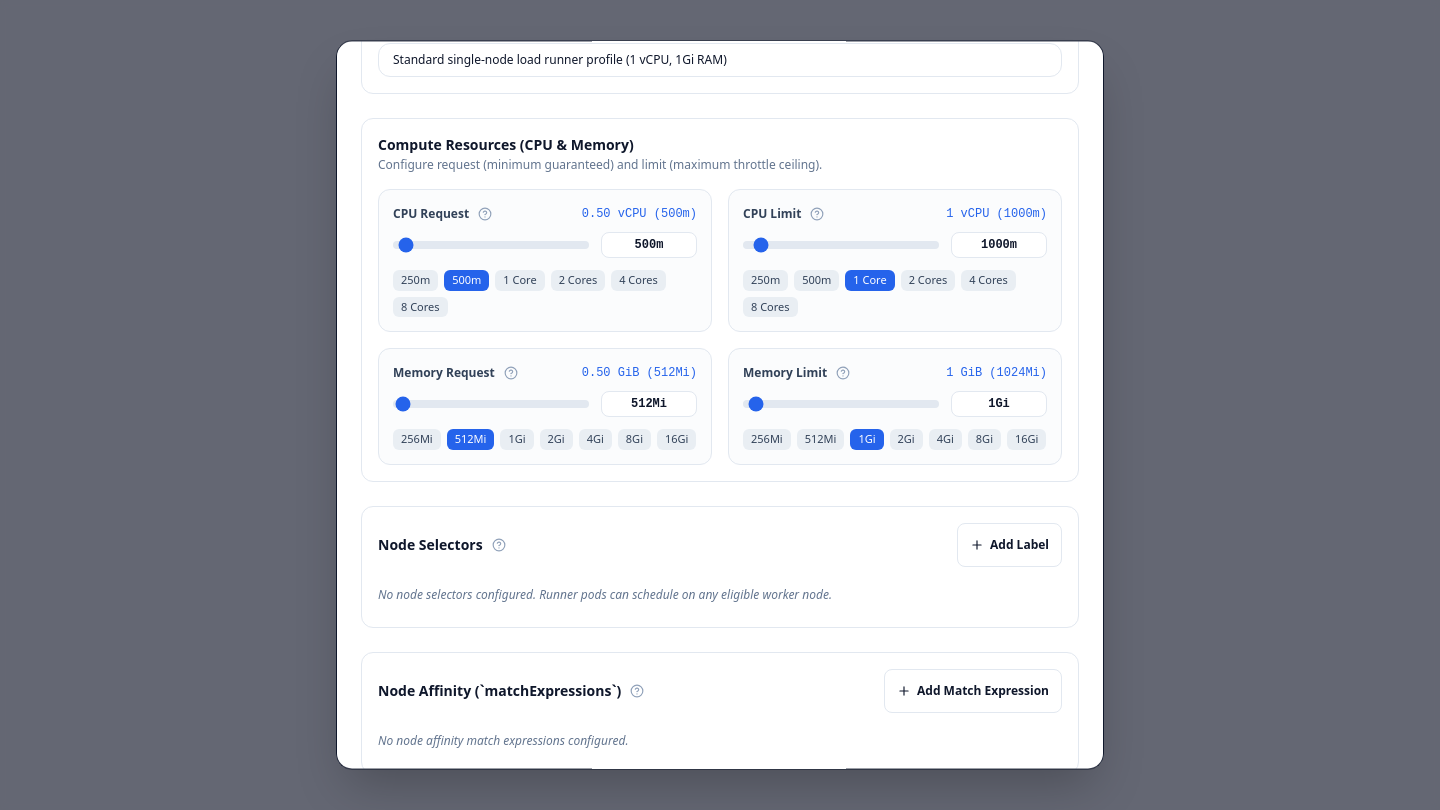
Test: Runner Profiles View & Builder › ProfileBuilderDialog › displays warning when Memory request exceeds Memory limit
The image size is (1440, 810).
(page scrolled)
# Set request to 4Gi and limit to 2Gi
Replace the text in the field labelled "Memory Request" with "4Gi" at {"x": 649, "y": 404}, box [601,392,697,418]
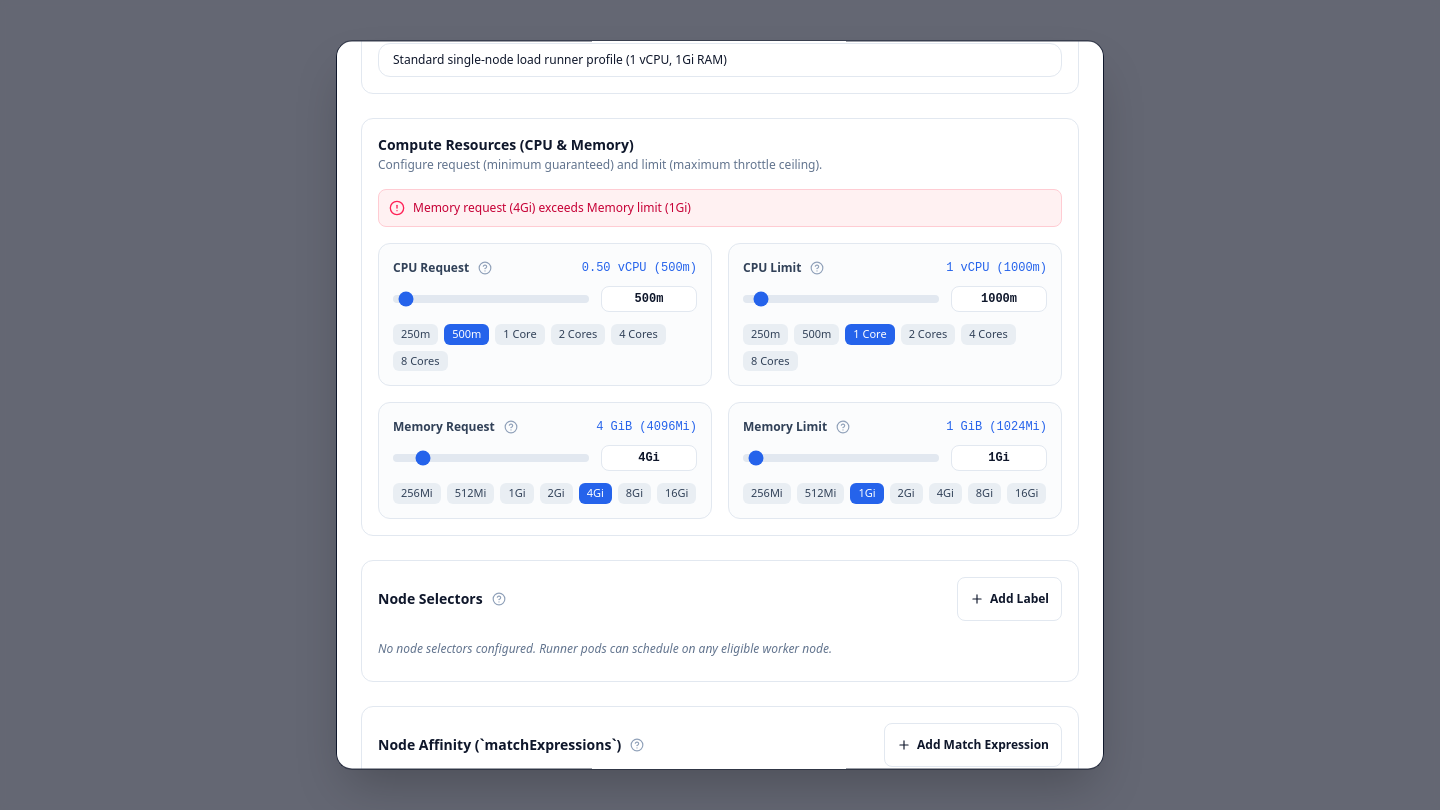
Type "2Gi" into the field labelled "Memory Limit" at {"x": 999, "y": 458}, box [951,446,1047,472]
(page scrolled)
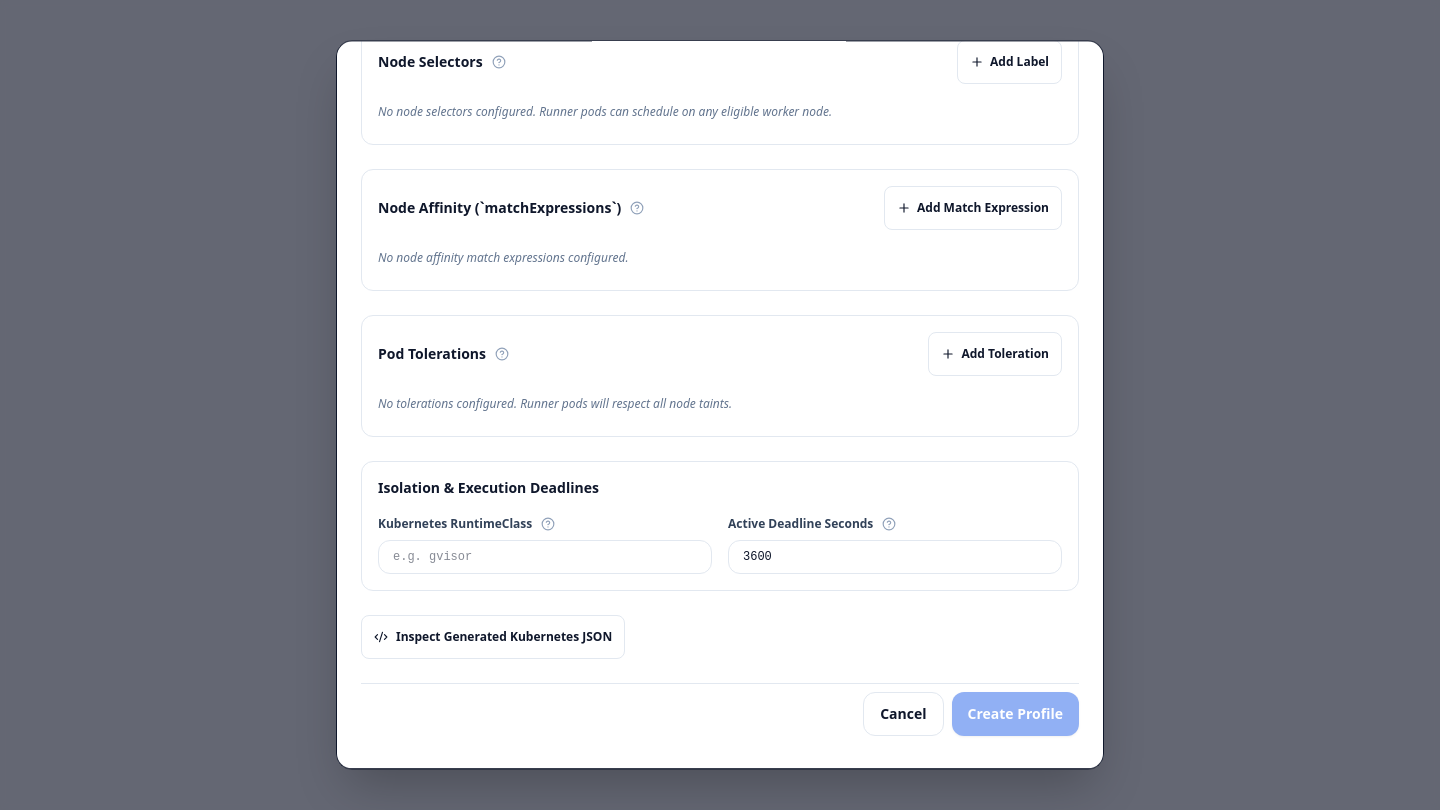
Expected: the button "Create Profile" is disabled, [952,692,1079,736]
